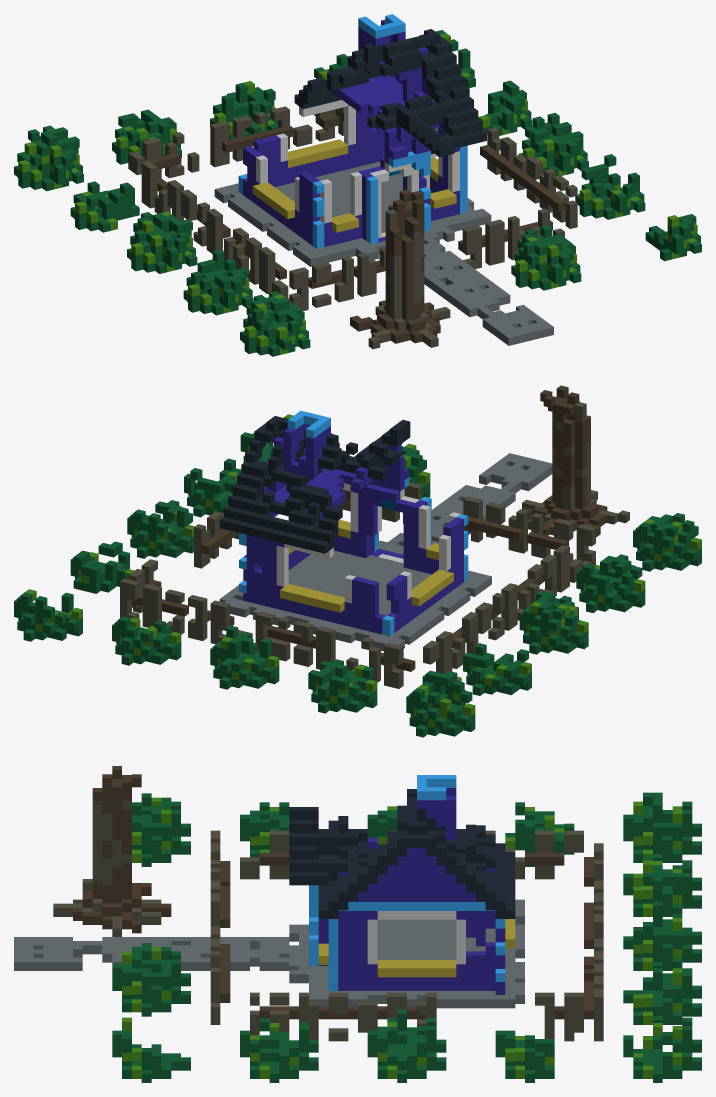
Rendered from building_small_2_destroyed.obj.
3 renders of one model, top to bottom at view 1: azimuth 30°, elevation 25°; view 2: azimuth 150°, elevation 25°; view 3: azimuth 270°, elevation 25°, orthographic. The views are drawn at different scales.
Bounding box in the file's own units: 6 × 2.2 × 7.
1 material, 1 textured.
